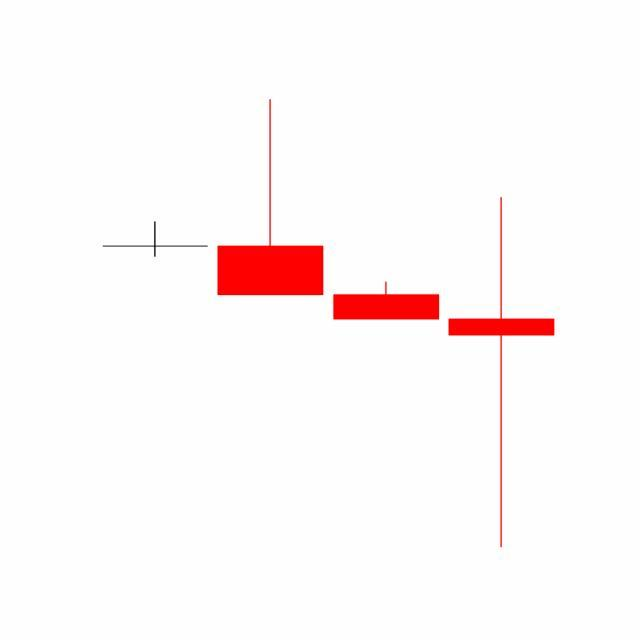Spinning Top: (444, 194, 560, 552)
